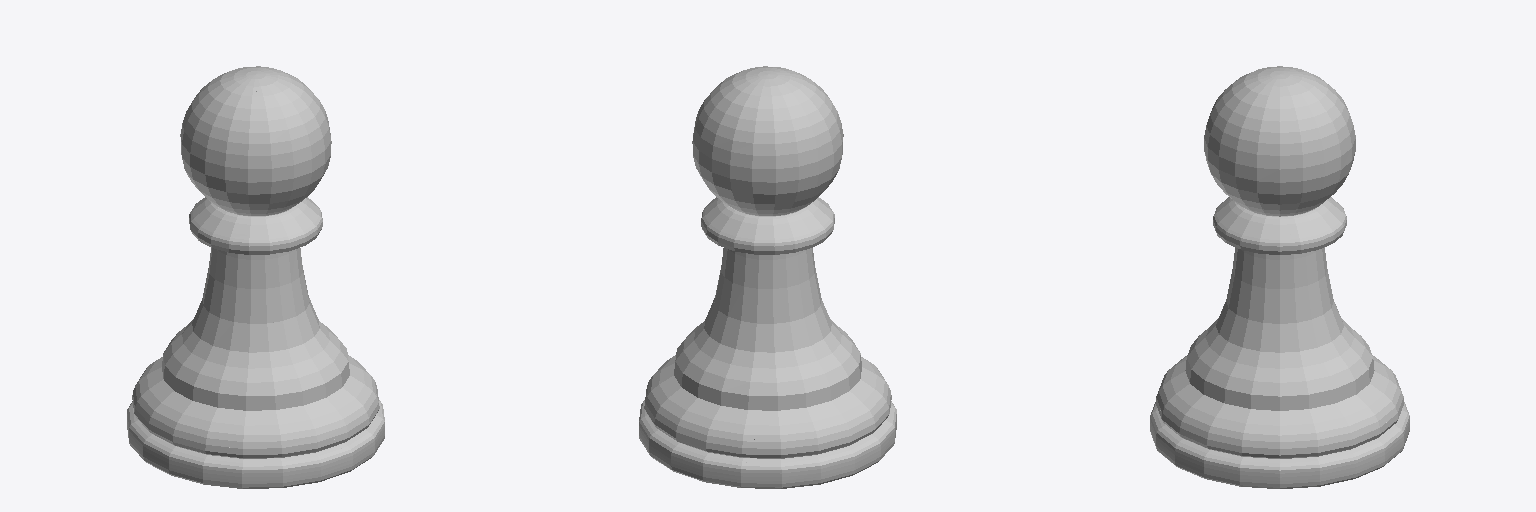
File: pawn_b_5.obj
The picture shows the model from 3 angles: view 1: azimuth 30°, elevation 25°; view 2: azimuth 150°, elevation 25°; view 3: azimuth 270°, elevation 25°; orthographic projection.
Visible parts, largest first — view 1: pawn_b_5; view 2: pawn_b_5; view 3: pawn_b_5.
Part boxes in pixels (x1,y1,x2,y2): pawn_b_5: (127, 66, 384, 488); pawn_b_5: (639, 66, 896, 488); pawn_b_5: (1150, 66, 1409, 488).
Bounding box in the file's own units: 2.73 × 4.2 × 2.73.